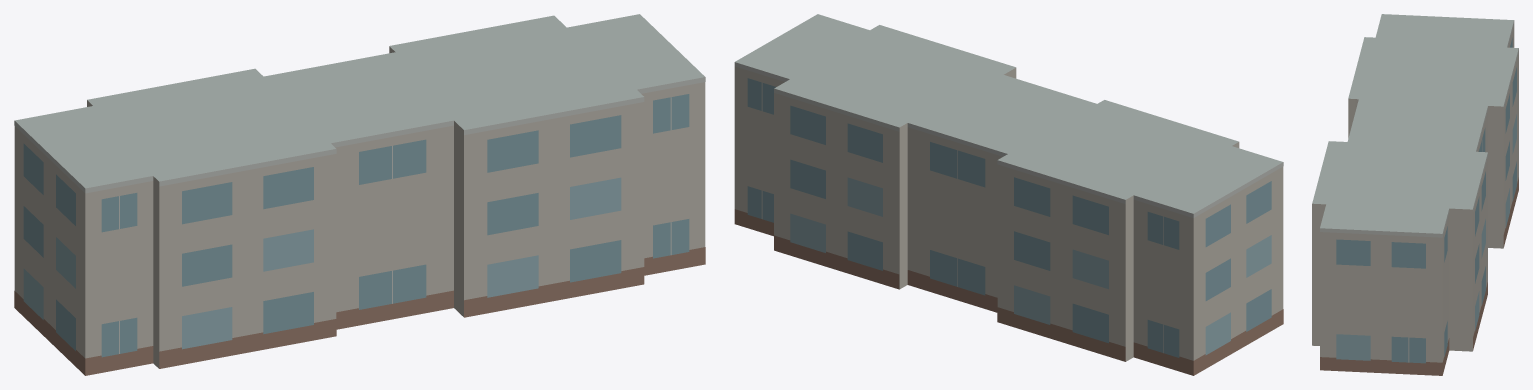
The model's file is survey-upis-32799328.glb.
3 renders of one model, left to right at view 1: azimuth 30°, elevation 25°; view 2: azimuth 150°, elevation 25°; view 3: azimuth 270°, elevation 25°, orthographic. The views are drawn at different scales.
Parts seen in each view (by area): view 1: survey-upis-32799328.tmp; view 2: survey-upis-32799328.tmp; view 3: survey-upis-32799328.tmp.
Boxes of the visible parts, box(x1,y1,x2,y2) form: survey-upis-32799328.tmp: box(14, 14, 705, 375); survey-upis-32799328.tmp: box(734, 14, 1283, 375); survey-upis-32799328.tmp: box(1312, 14, 1518, 375).
Bounding box in the file's own units: 30.39 × 9.15 × 12.08.
